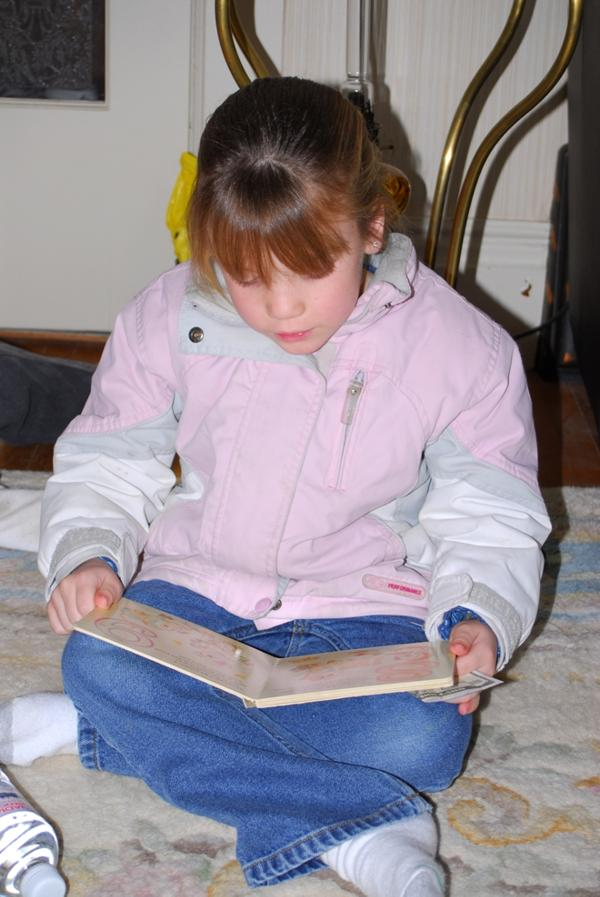person: (38, 78, 555, 895)
